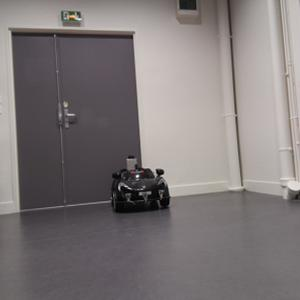big: (110, 168, 173, 213)
